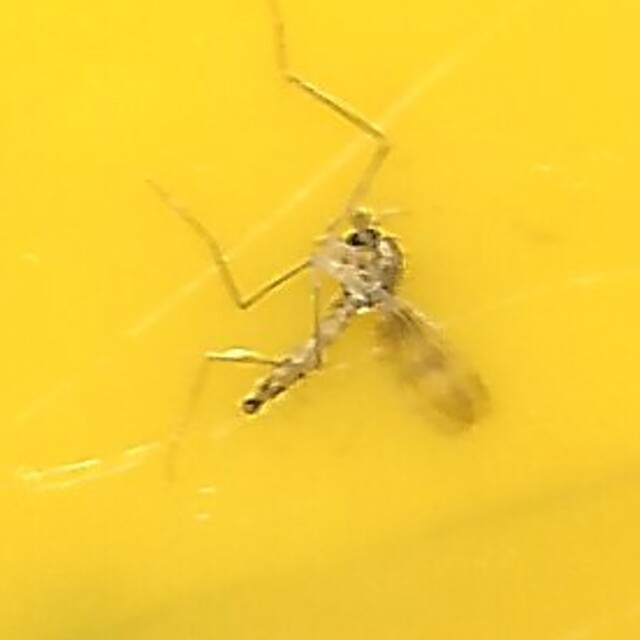Nematocera: (232, 206, 408, 434)
